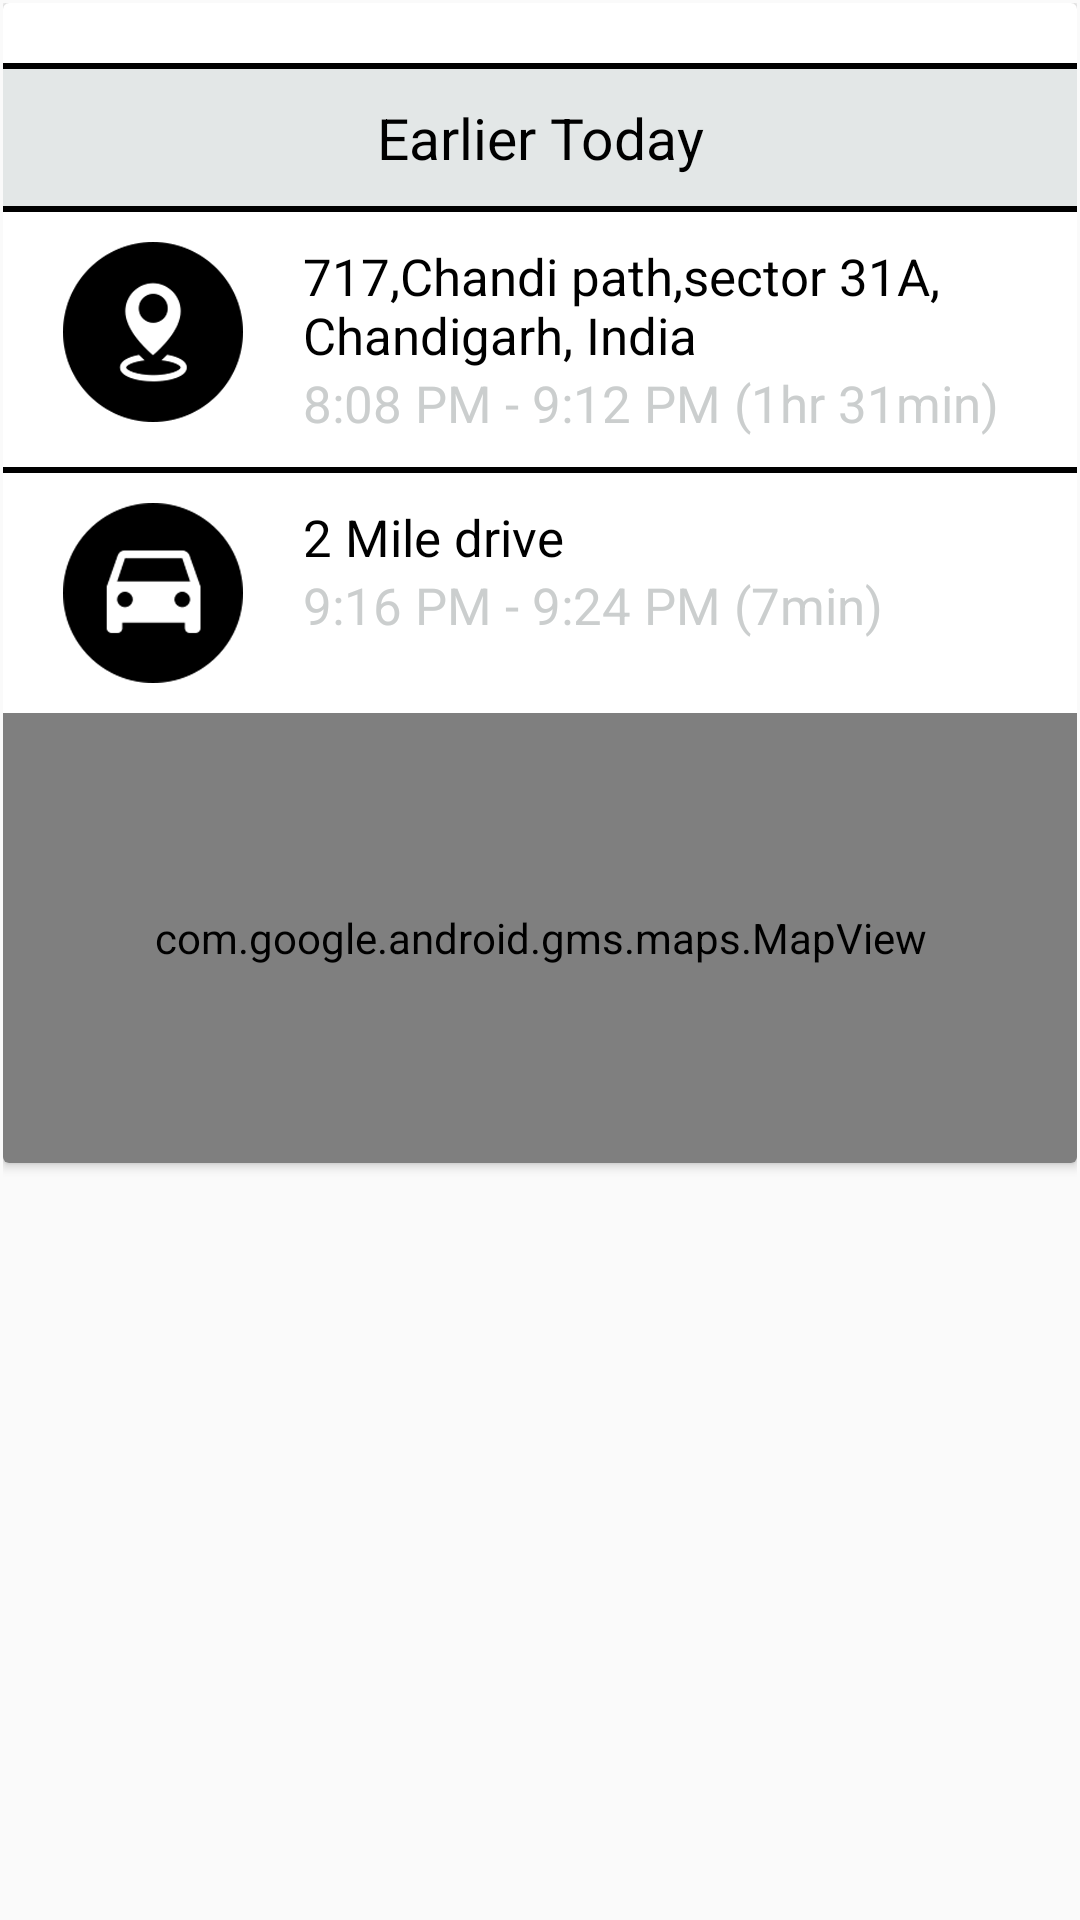

Where to tap for icons on this 1080px x 1920px app screen, as [x,y]:
drive car: [153,593]
drive location: [153,332]
